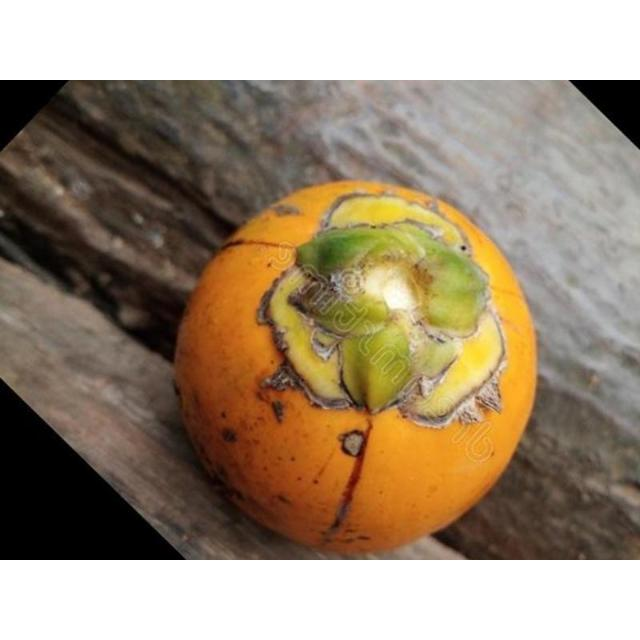good: (172, 180, 538, 555)
